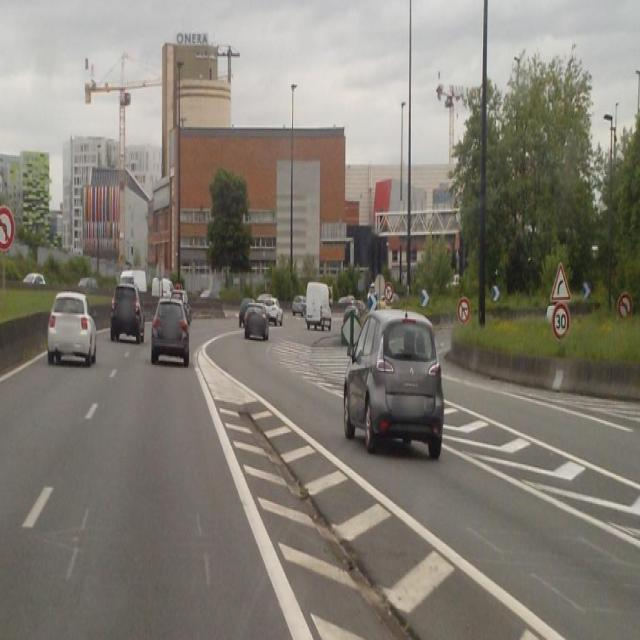speed_30: (552, 304, 571, 339)
